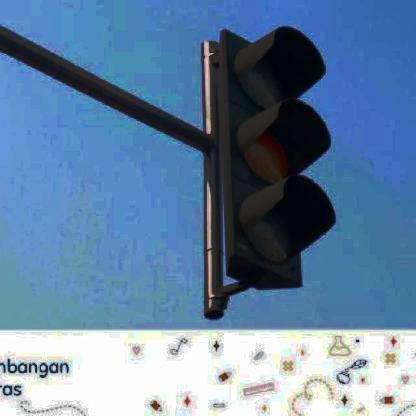Traffic Light -Yellow-: (222, 27, 332, 291)
